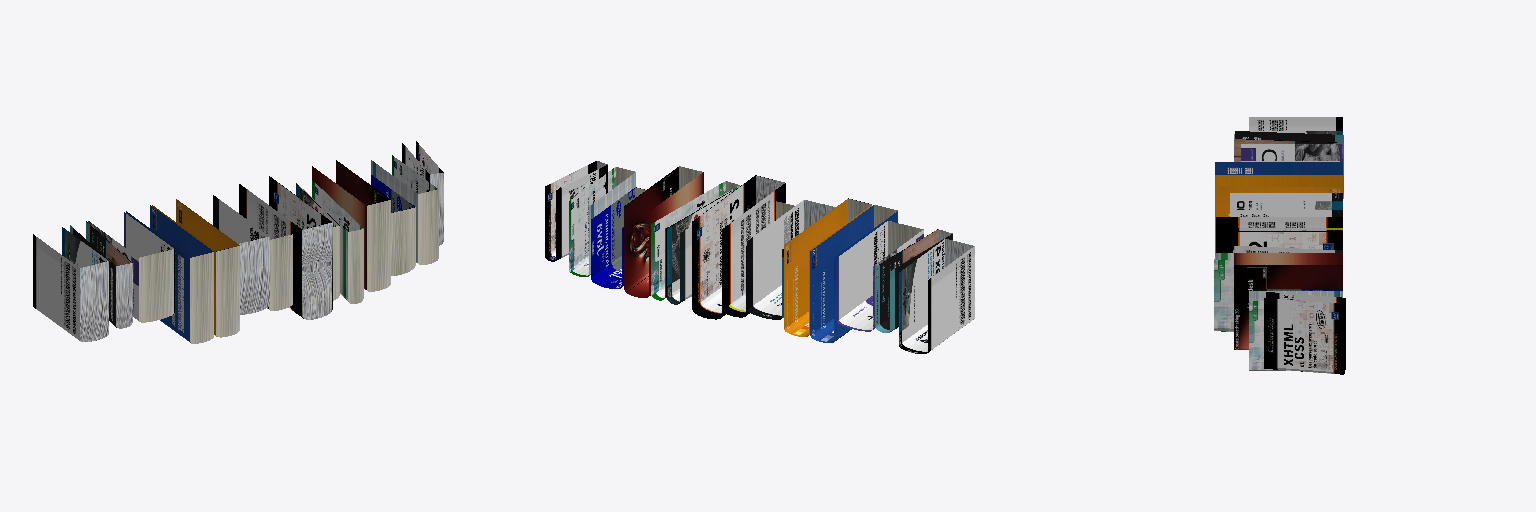
3 views of the same model, side by side, from view 1: azimuth 30°, elevation 25°; view 2: azimuth 150°, elevation 25°; view 3: azimuth 270°, elevation 25° (orthographic).
Visible parts, largest first — view 1: Book_PHP, Book_Flex, Book_Photoshop, Book_Maya, Book_CPlus, Book_Illustrator, Book_OBJC, Book_ASP, Book_Javascript, Book_Unity, Book_JAVA, Book_3DS (+2 smaller); view 2: Book_PHP, Book_Flex, Book_Maya, Book_CPlus, Book_OBJC, Book_Photoshop, Book_Illustrator, Book_ASP, Book_JAVA, Book_CSS, Book_Unity, Book_AS3 (+2 smaller); view 3: Book_CSS, Book_Maya, Book_PHP, Book_OBJC, Book_Illustrator, Book_CPlus, Book_Photoshop, Book_Javascript, Book_Flex, Book_ASP, Book_Unity, Book_AS3.
Boxes of the visible parts, box(x1,y1,x2,y2) form: Book_PHP: box(239, 176, 332, 319); Book_Flex: box(33, 227, 108, 341); Book_Photoshop: box(126, 205, 213, 343); Book_Maya: box(312, 160, 390, 291); Book_CPlus: box(88, 212, 174, 322); Book_Illustrator: box(152, 199, 239, 337); Book_OBJC: box(213, 195, 269, 314); Book_ASP: box(371, 155, 438, 264); Book_Javascript: box(296, 180, 363, 303); Book_Unity: box(70, 221, 132, 328); Book_JAVA: box(371, 175, 415, 275); Book_3DS: box(267, 234, 292, 310); Book_PHP: box(692, 175, 785, 319); Book_Flex: box(899, 239, 974, 353); Book_Maya: box(624, 166, 703, 297); Book_CPlus: box(837, 221, 923, 331); Book_OBJC: box(747, 200, 835, 319); Book_Photoshop: box(810, 205, 897, 342); Book_Illustrator: box(784, 198, 871, 336); Book_ASP: box(569, 167, 635, 276); Book_JAVA: box(591, 187, 645, 288); Book_CSS: box(545, 161, 607, 261); Book_Unity: box(875, 229, 952, 332); Book_AS3: box(666, 191, 731, 304); Book_CSS: box(1264, 292, 1345, 374); Book_Maya: box(1234, 253, 1342, 349); Book_PHP: box(1216, 217, 1342, 252); Book_OBJC: box(1230, 193, 1342, 216); Book_Illustrator: box(1215, 175, 1342, 254); Book_CPlus: box(1241, 144, 1342, 161); Book_Photoshop: box(1215, 162, 1342, 174); Book_Javascript: box(1214, 253, 1233, 331); Book_Flex: box(1249, 117, 1342, 134); Book_ASP: box(1249, 291, 1342, 370); Book_Unity: box(1234, 131, 1343, 198); Book_AS3: box(1233, 246, 1342, 252).
Size of the model in its own units: 63.1 by 14.61 by 18.78.
Materials: 14 (14 with a texture image).